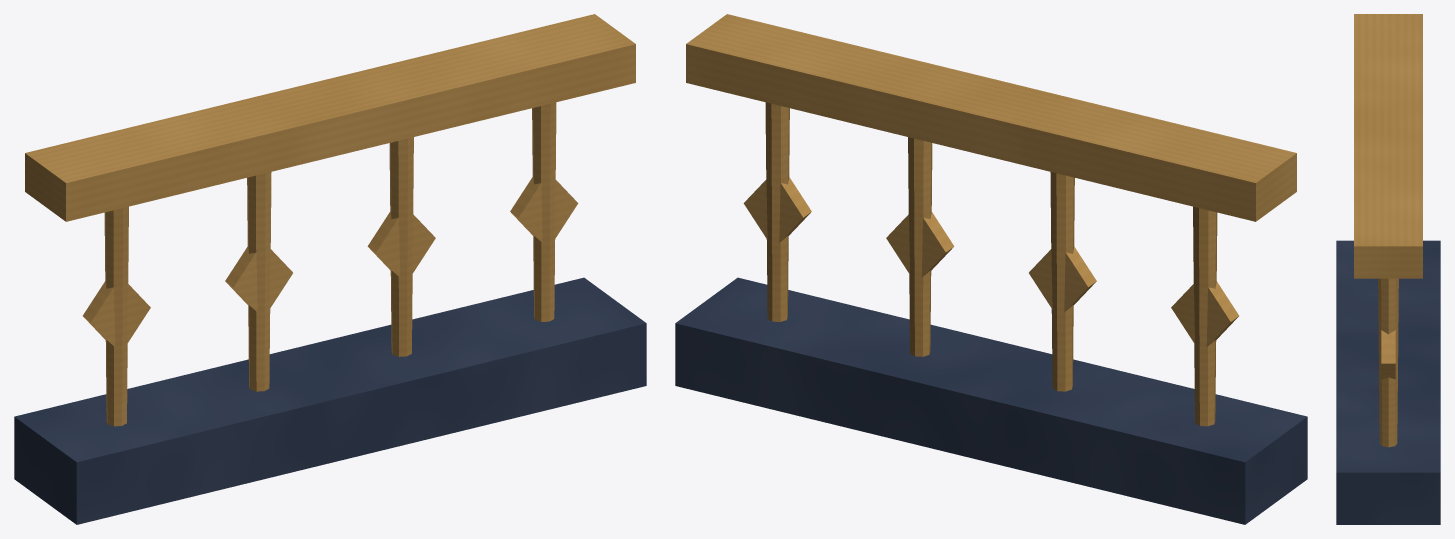
File: SM_Theater_Rail_Gallery2.fbx
3 renders of one model, left to right at view 1: azimuth 30°, elevation 25°; view 2: azimuth 150°, elevation 25°; view 3: azimuth 270°, elevation 25°, orthographic. The views are drawn at different scales.
Parts seen in each view (by area): view 1: SM_Theater_Rail_Gallery2_LOD0; view 2: SM_Theater_Rail_Gallery2_LOD0; view 3: SM_Theater_Rail_Gallery2_LOD0.
Part boxes in pixels (bbox=[...]): SM_Theater_Rail_Gallery2_LOD0: bbox=[14, 14, 646, 524]; SM_Theater_Rail_Gallery2_LOD0: bbox=[675, 14, 1307, 524]; SM_Theater_Rail_Gallery2_LOD0: bbox=[1336, 14, 1440, 524].
Size of what is drawn, in the model's own units: 2 by 1.12 by 0.38.
